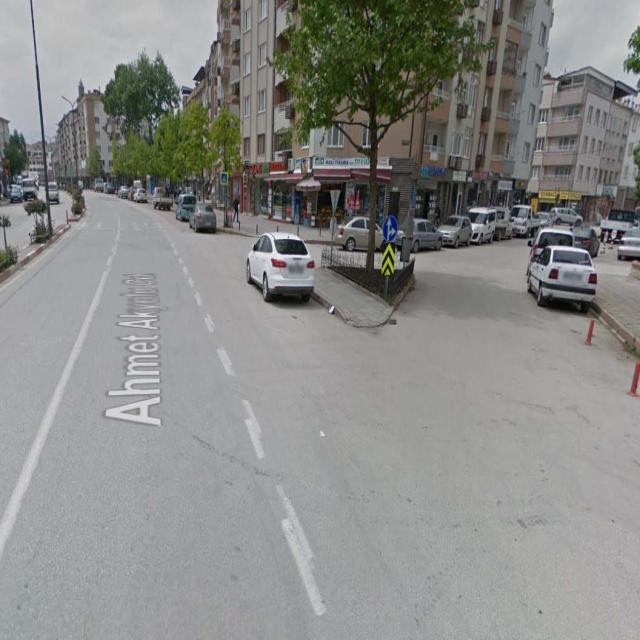ilerisag: (384, 214, 396, 246)
